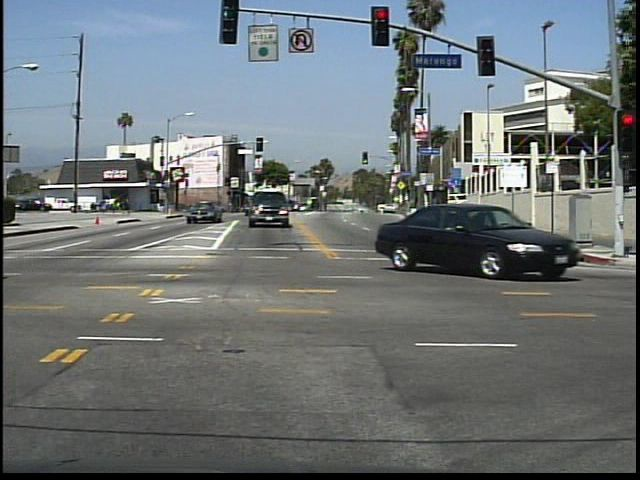person: (123, 195, 135, 219)
